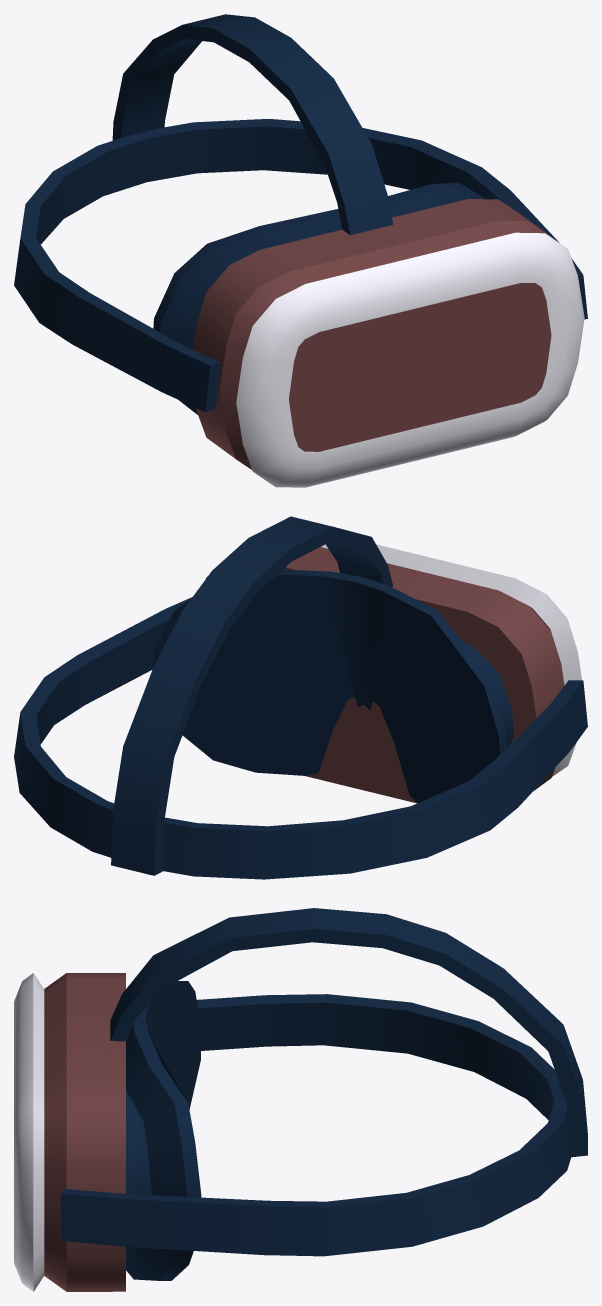
3 renders of one model, top to bottom at view 1: azimuth 30°, elevation 25°; view 2: azimuth 150°, elevation 25°; view 3: azimuth 270°, elevation 25°, orthographic.
Visible parts, largest first — view 1: VR.c, VR; view 2: VR.c, VR; view 3: VR, VR.c.
Boxes of the visible parts, x1=… form: VR.c: x1=153, y1=182, x2=584, y2=487; VR: x1=14, y1=14, x2=587, y2=411; VR.c: x1=153, y1=544, x2=581, y2=803; VR: x1=14, y1=516, x2=587, y2=879; VR: x1=60, y1=908, x2=587, y2=1256; VR.c: x1=14, y1=973, x2=201, y2=1291.
Bounding box in the file's own units: 0.7028 × 0.4708 × 0.7759.
